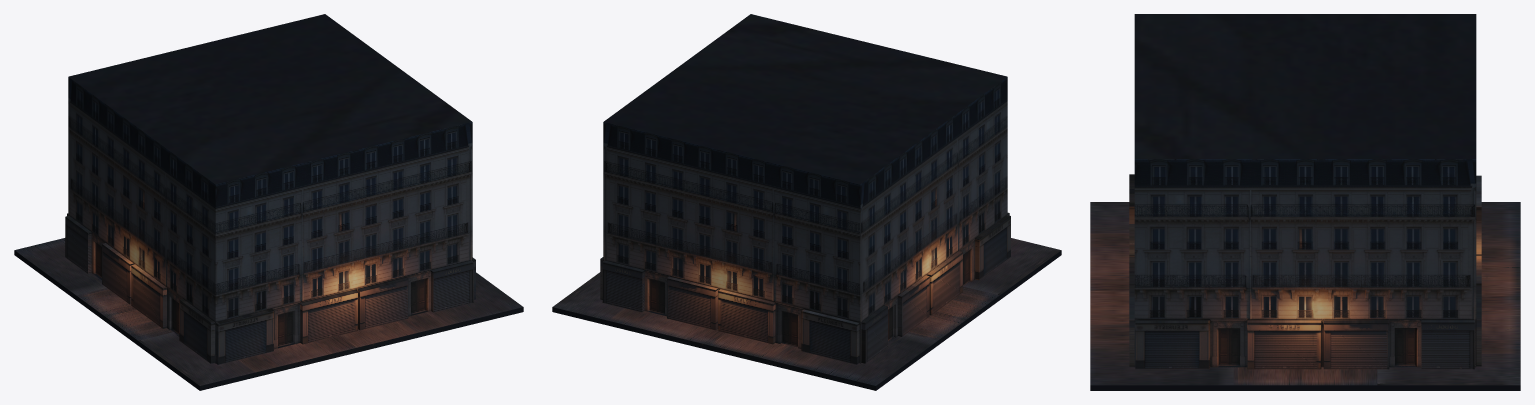
Rendered from BuildingSombre.fbx.
The picture shows the model from 3 angles, left to right: view 1: azimuth 30°, elevation 25°; view 2: azimuth 150°, elevation 25°; view 3: azimuth 270°, elevation 25°; orthographic projection. The views are drawn at different scales.
Parts seen in each view (by area): view 1: Bloc, Trottoir; view 2: Bloc, Trottoir; view 3: Bloc, Trottoir.
Part boxes in pixels (box(x1,y1,x2,y2)): Bloc: box(65, 14, 475, 364); Trottoir: box(14, 238, 523, 390); Bloc: box(600, 14, 1010, 364); Trottoir: box(552, 238, 1061, 390); Bloc: box(1129, 14, 1481, 369); Trottoir: box(1090, 202, 1520, 390).
Size of the model in its own units: 26.8 by 26.62 by 14.56.
Materials: 1 (1 with a texture image).
